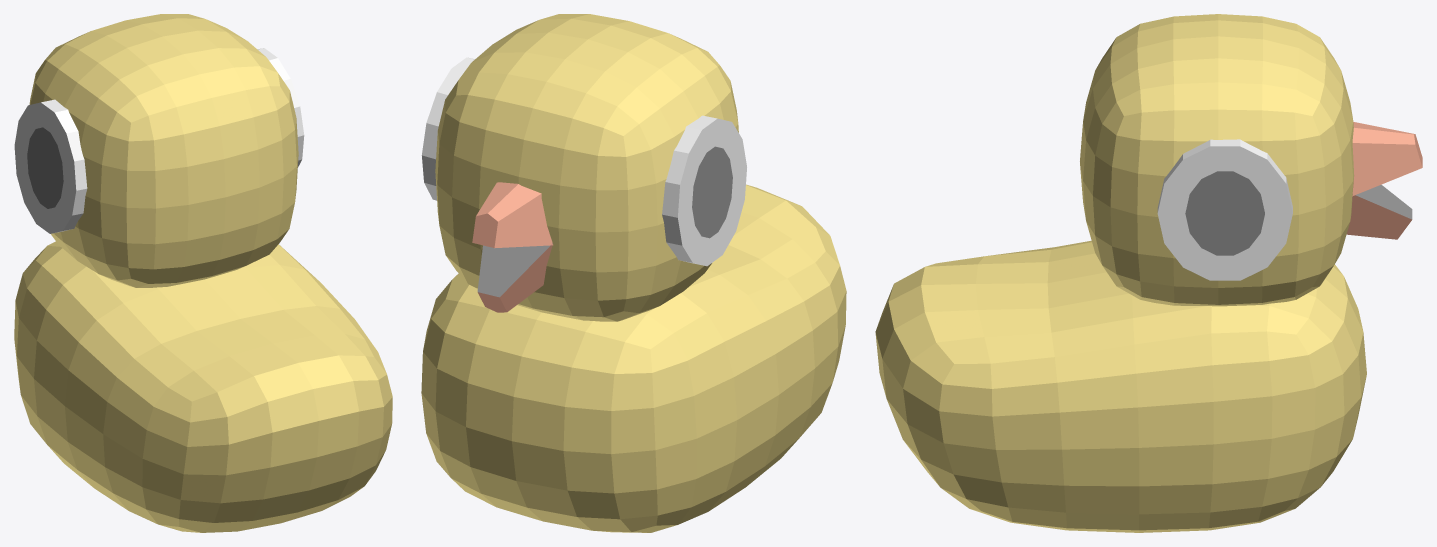
The model's file is Rubber Duck.fbx.
3 views of the same model, side by side, from view 1: azimuth 30°, elevation 25°; view 2: azimuth 150°, elevation 25°; view 3: azimuth 270°, elevation 25° (orthographic). The views are drawn at different scales.
Visible parts, largest first — view 1: Rubber Duck; view 2: Rubber Duck; view 3: Rubber Duck.
Boxes of the visible parts, <box> form: Rubber Duck: <box>14,14,392,532</box>; Rubber Duck: <box>421,14,846,532</box>; Rubber Duck: <box>875,14,1422,532</box>.
Size of the model in its own units: 0.0604 by 0.0919 by 0.0975.
